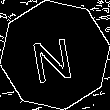N_N: (31, 27, 79, 83)
